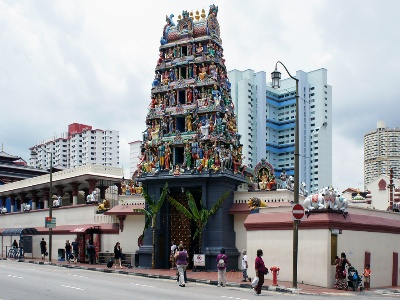gopura: (127, 23, 249, 182)
